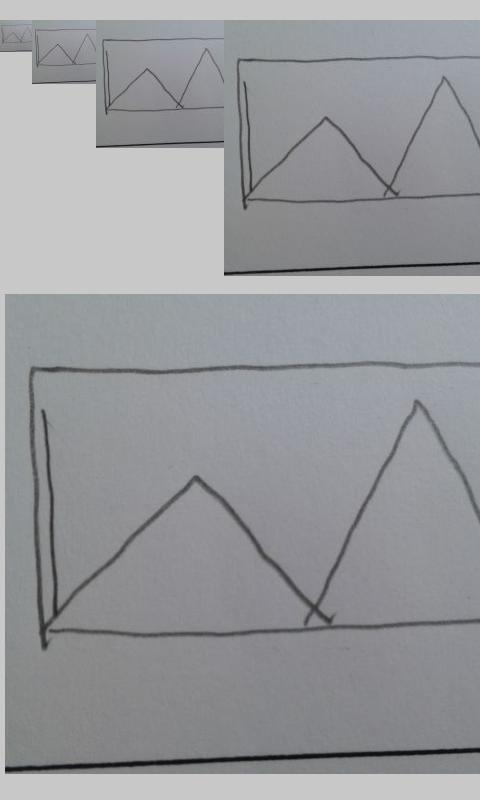image_view: (29, 362, 479, 642), (235, 55, 475, 205), (101, 35, 222, 113), (34, 27, 95, 67), (1, 23, 32, 44)
